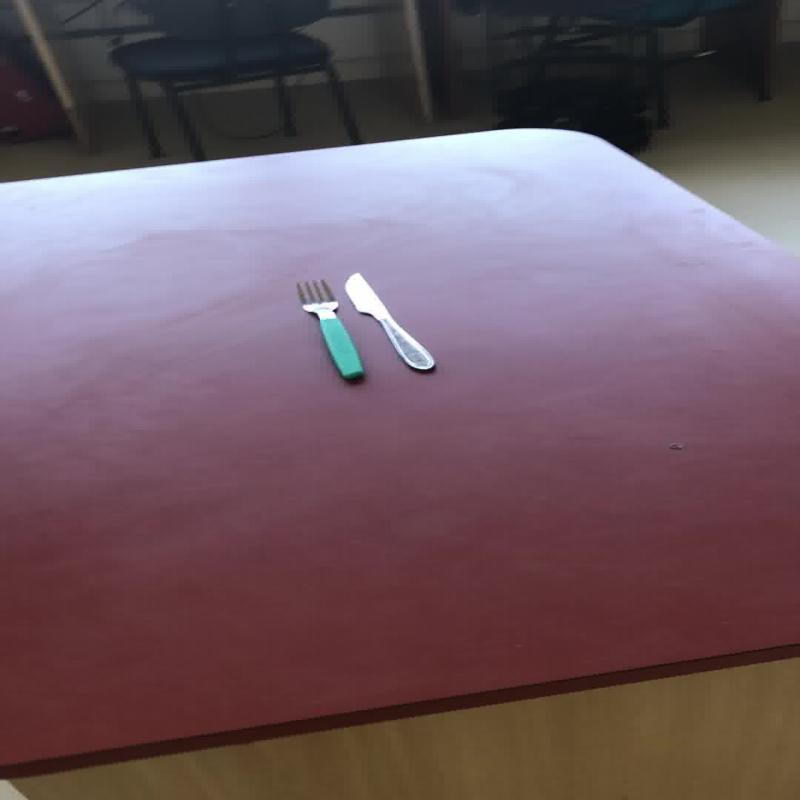fork: (293, 278, 363, 380)
knife: (342, 271, 436, 370)
